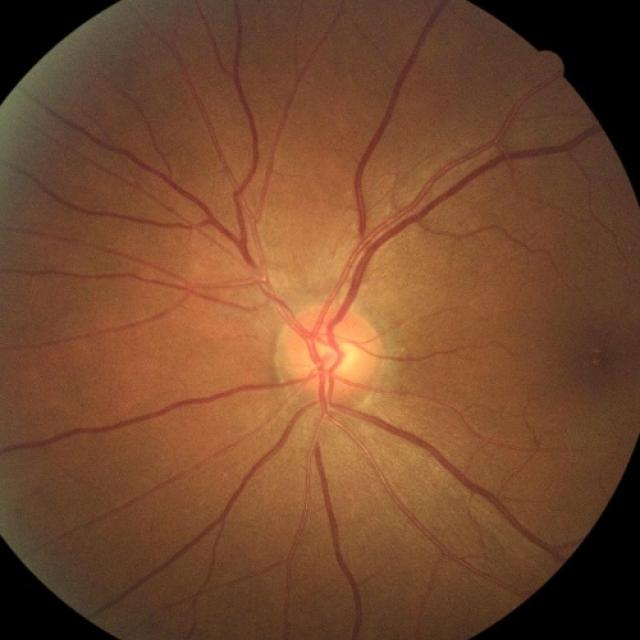OC: (322, 342, 359, 374)
OD: (279, 310, 378, 406)
